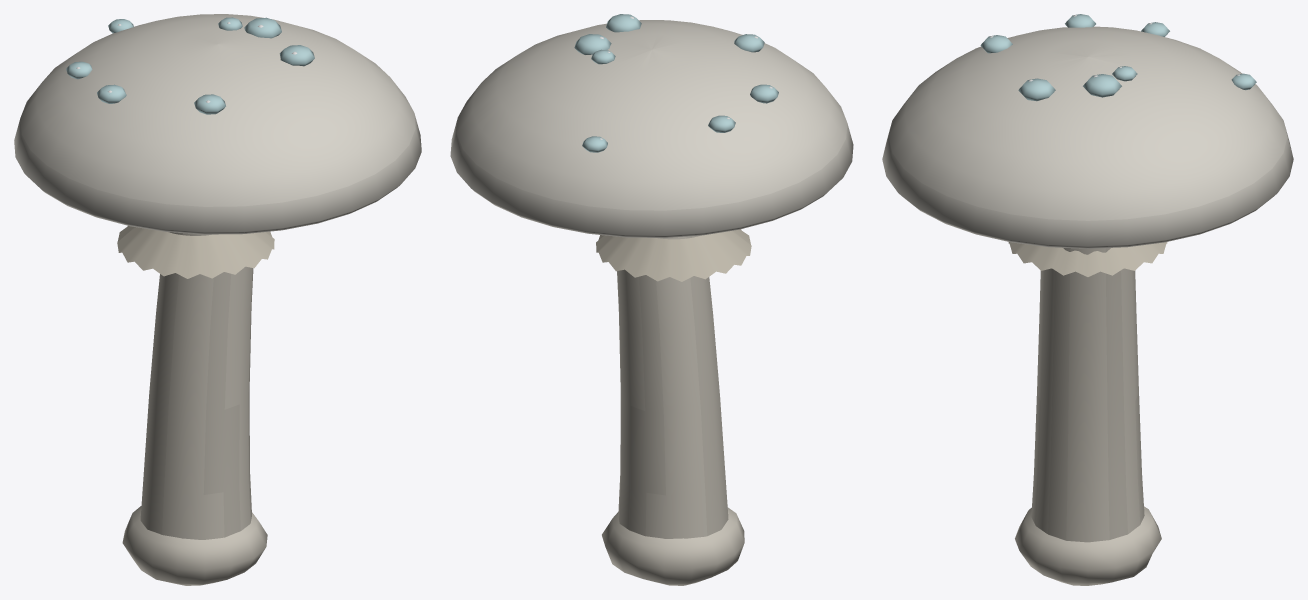
Rendered from great_white.glb.
3 views of the same model, side by side, from view 1: azimuth 30°, elevation 25°; view 2: azimuth 150°, elevation 25°; view 3: azimuth 270°, elevation 25° (orthographic).
Parts seen in each view (by area): view 1: body, body_nl; view 2: body, body_nl; view 3: body, body_nl.
Boxes of the visible parts, left/top/right/bottom form: body: left=14, top=14, right=421, bottom=585; body_nl: left=66, top=17, right=314, bottom=114; body: left=450, top=20, right=853, bottom=585; body_nl: left=574, top=14, right=778, bottom=152; body: left=882, top=26, right=1293, bottom=585; body_nl: left=980, top=14, right=1256, bottom=101.
Size of the model in its own units: 5.6 by 8.02 by 5.6.
